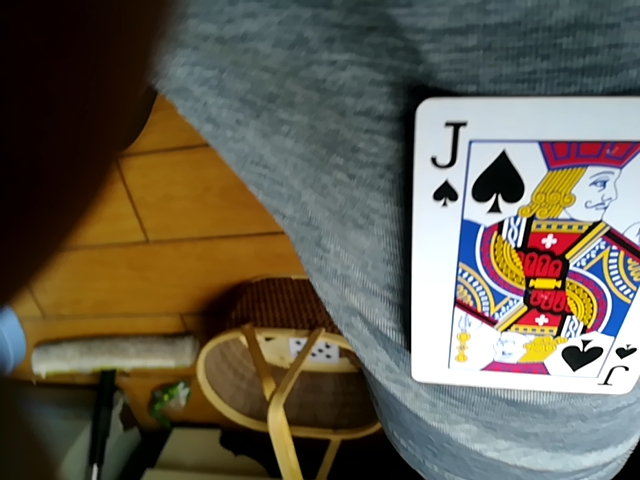ht j: (408, 91, 640, 401)
